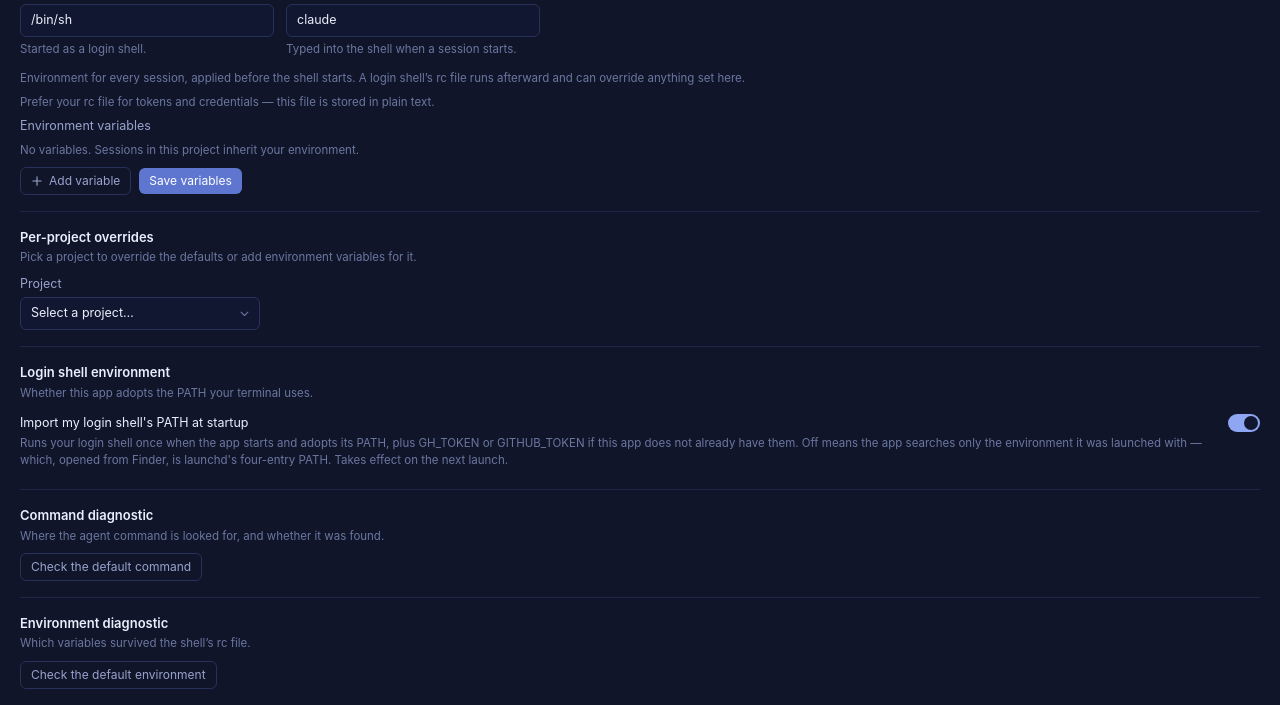
Test case: RuntimeSection — environment diagnostic › asks about the default environment when no project is picked
(page scrolled)
Click the button "Check the default environment". click: {"x": 118, "y": 674}
box: [20,660,217,688]
(page scrolled)
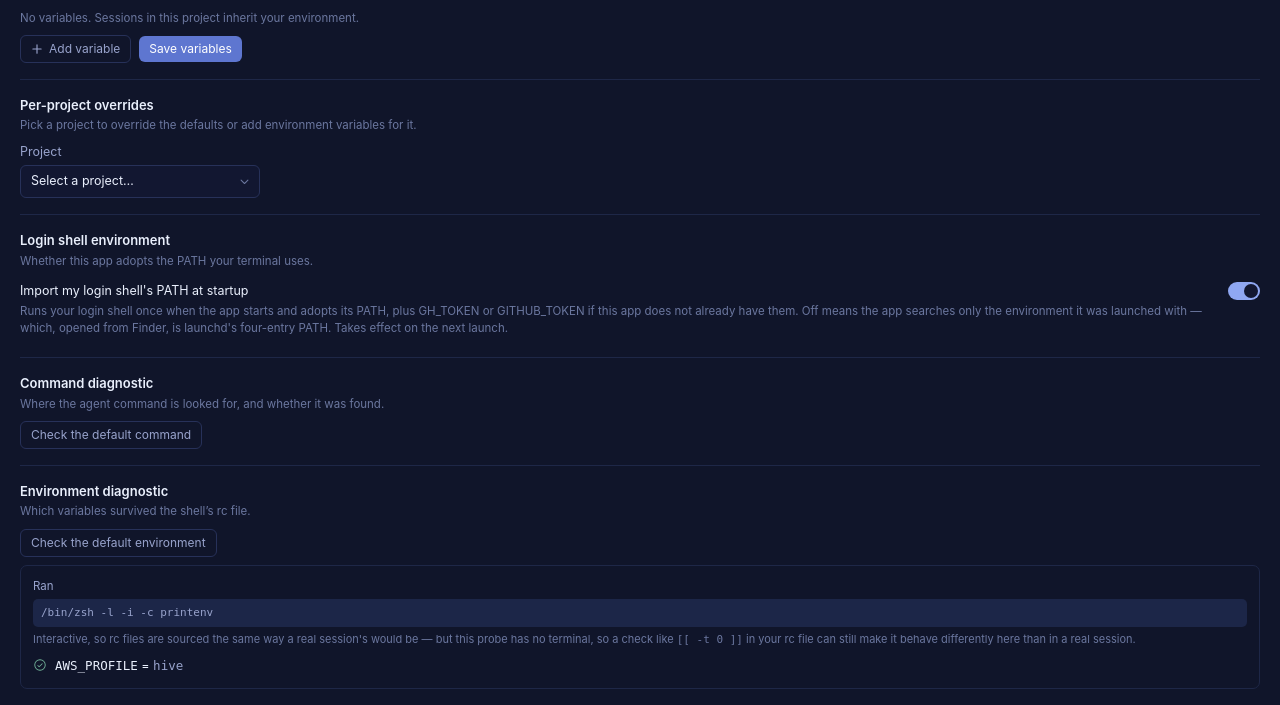
Check: the text "AWS_PROFILE" is shown, box [55,658,138,673]
